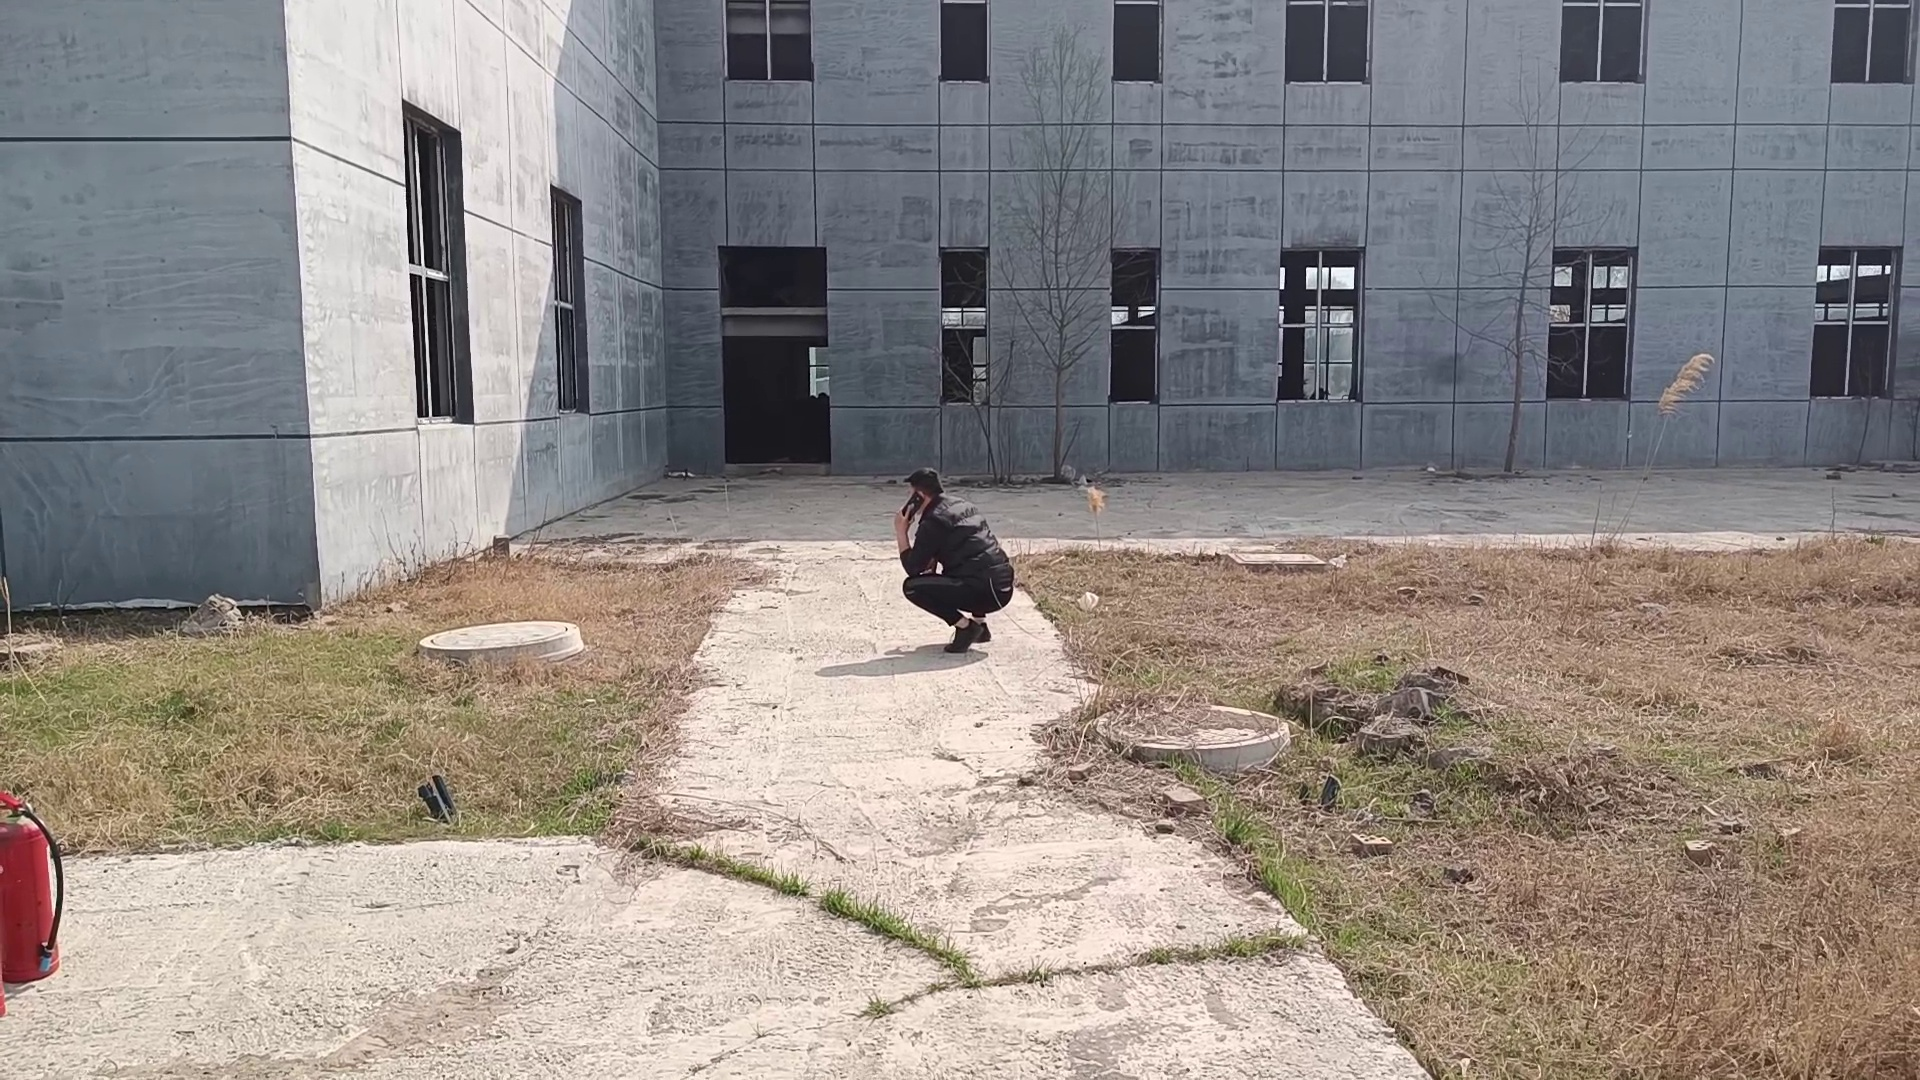phone: (890, 468, 944, 526)
